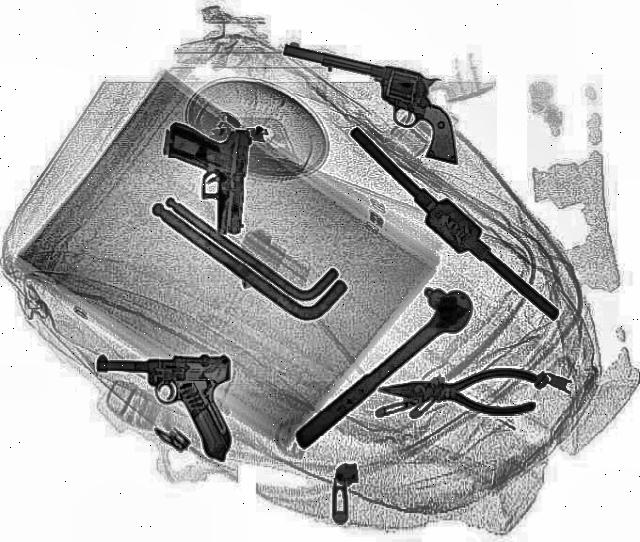Gun: (256, 44, 484, 166), (95, 355, 232, 464), (156, 123, 250, 237)
Pliers: (377, 368, 537, 416)
